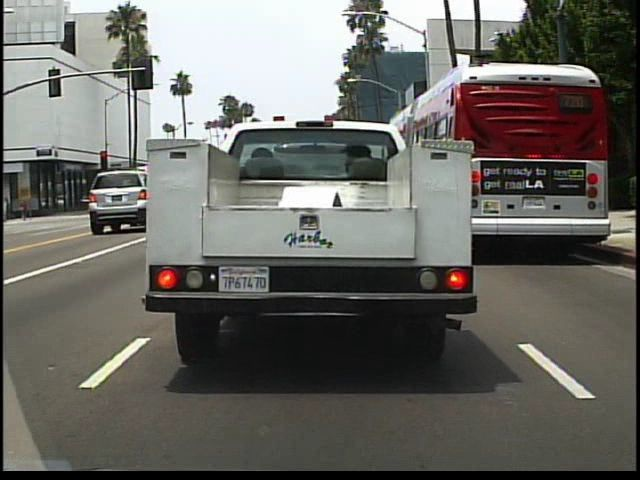person: (17, 195, 32, 223)
